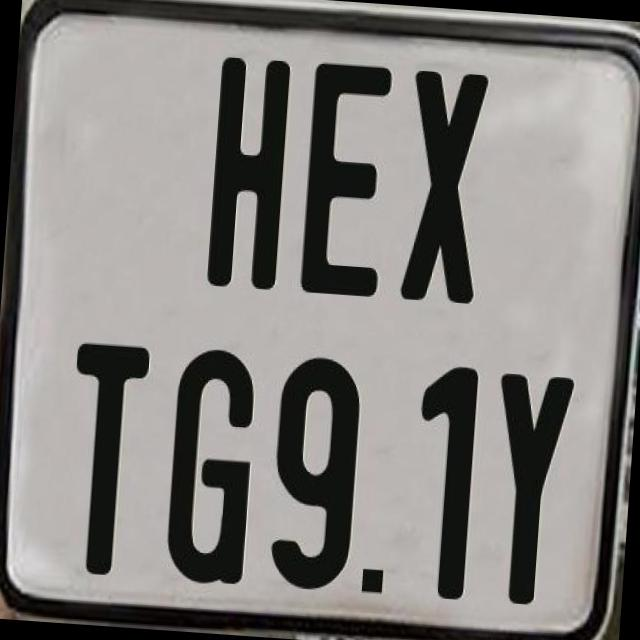1: (408, 360, 487, 600)
9: (266, 351, 365, 596)
E: (298, 56, 392, 292)
G: (162, 342, 261, 590)
H: (202, 55, 293, 296)
T: (59, 337, 149, 572)
X: (395, 66, 486, 302)
Y: (480, 372, 572, 608)
